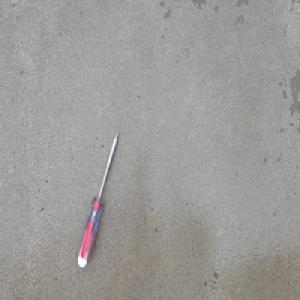Screwdriver: (76, 128, 120, 268)
